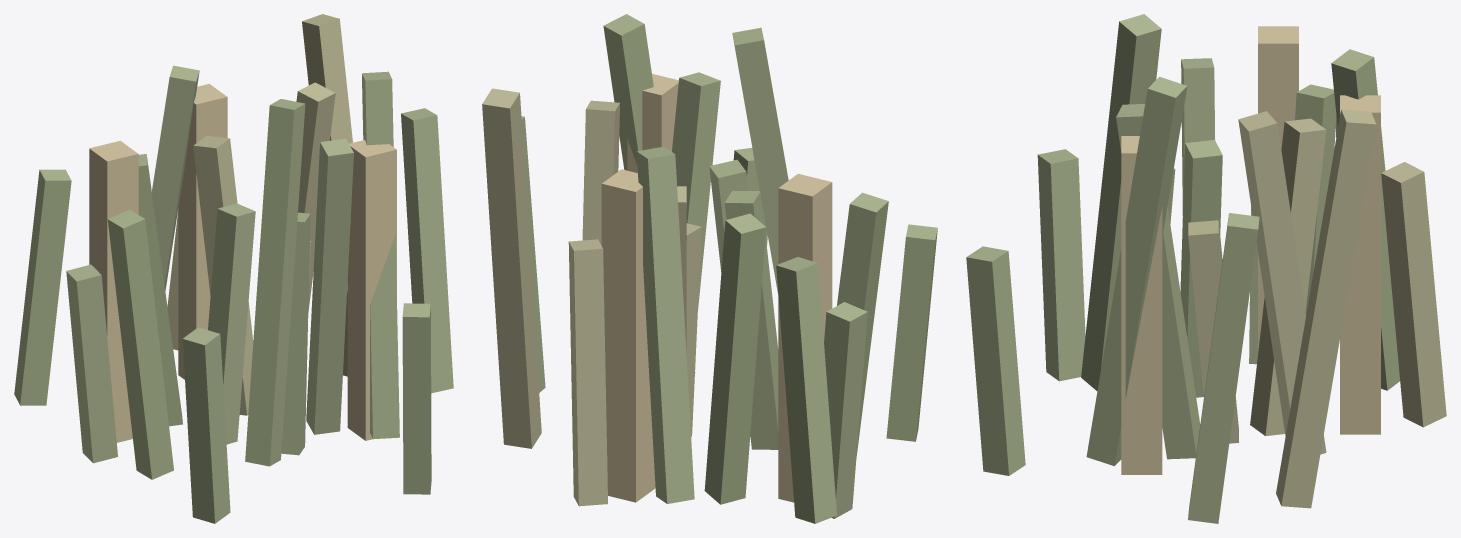
The model's file is sage_cluster.glb.
The picture shows the model from 3 angles, left to right: view 1: azimuth 30°, elevation 25°; view 2: azimuth 150°, elevation 25°; view 3: azimuth 270°, elevation 25°; orthographic projection. The views are drawn at different scales.
Visible parts, largest first — view 1: sage_cluster; view 2: sage_cluster; view 3: sage_cluster.
Part boxes in pixels (x1,y1,x2,y2): sage_cluster: (14,14,453,523); sage_cluster: (482,14,937,523); sage_cluster: (966,14,1446,523).
Size of the model in its own units: 0.6973 by 0.666 by 0.7034.
